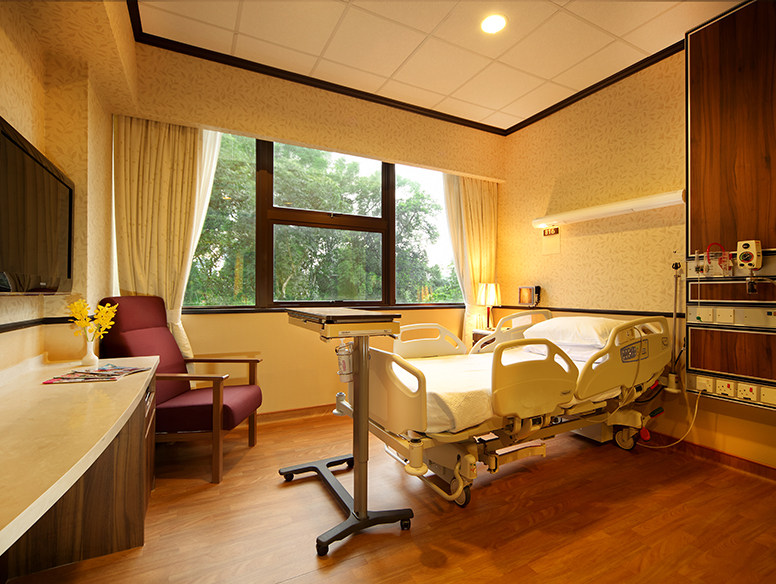bedside table: (287, 300, 405, 339)
hospital bed: (336, 315, 675, 453)
